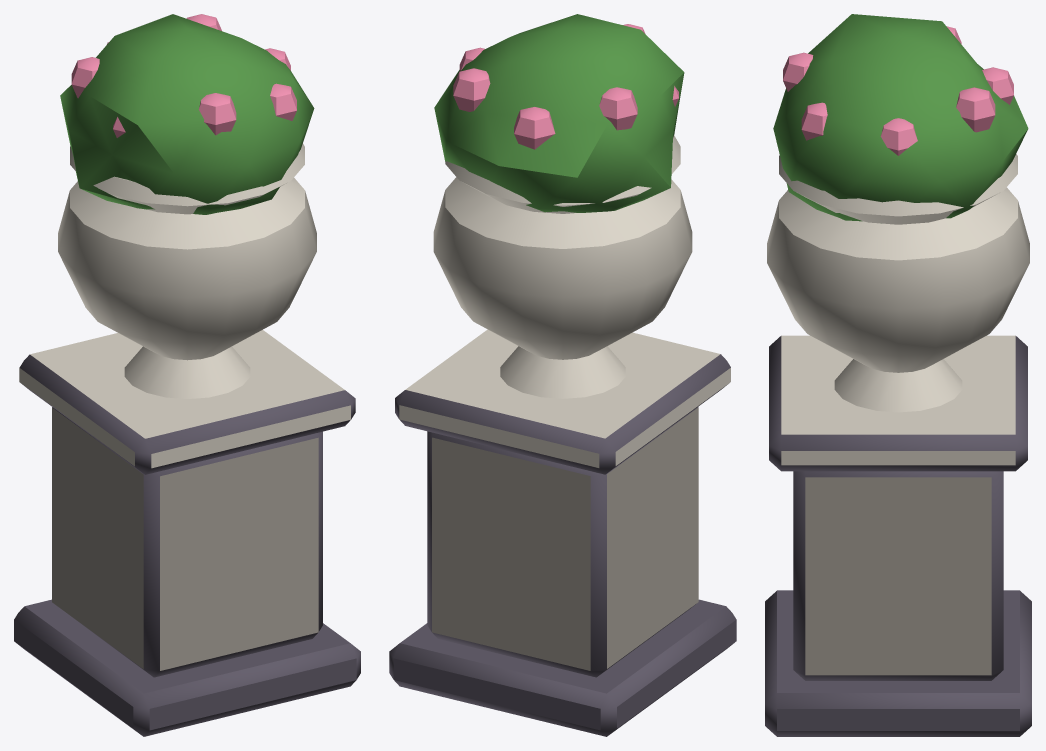
The model's file is statue_urn.glb.
The picture shows the model from 3 angles, left to right: view 1: azimuth 30°, elevation 25°; view 2: azimuth 150°, elevation 25°; view 3: azimuth 270°, elevation 25°; orthographic projection.
Visible parts, largest first — view 1: statue_urn; view 2: statue_urn; view 3: statue_urn.
Boxes of the visible parts, x1,y1,x2,y2 form: statue_urn: (14,14,360,736); statue_urn: (389,14,736,736); statue_urn: (765,14,1031,736).
Size of the model in its own units: 0.66 by 1.77 by 0.66.
